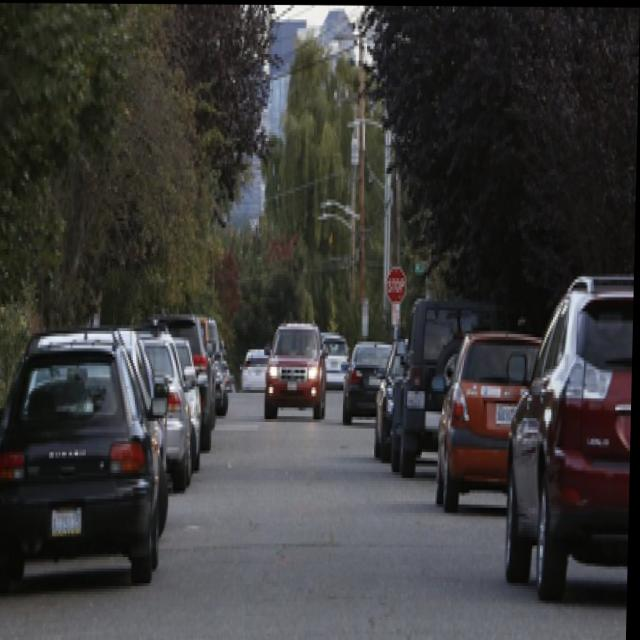licence: (47, 504, 89, 537)
